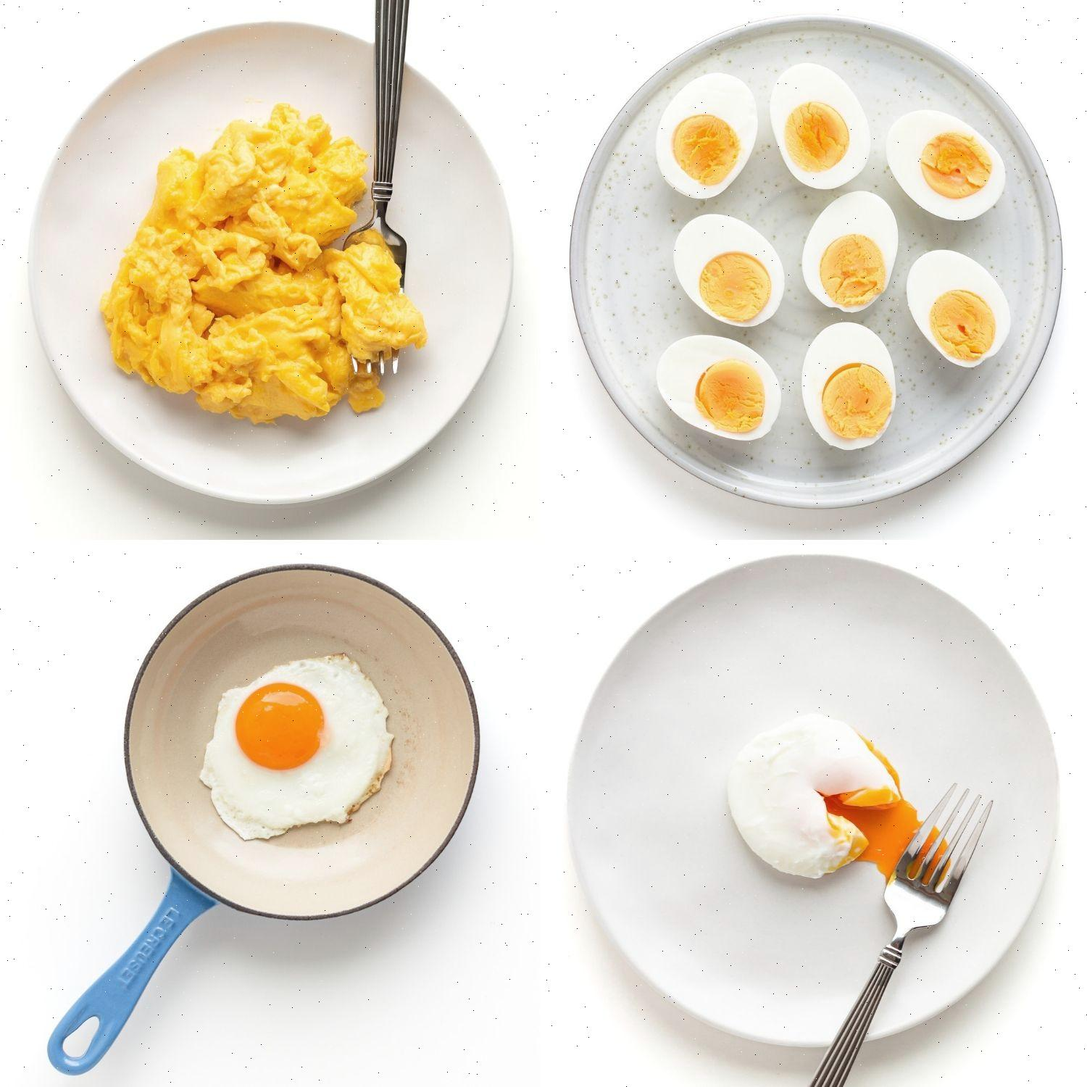eggs: (646, 68, 1043, 460), (129, 119, 396, 446), (713, 725, 898, 883), (206, 665, 388, 811)
